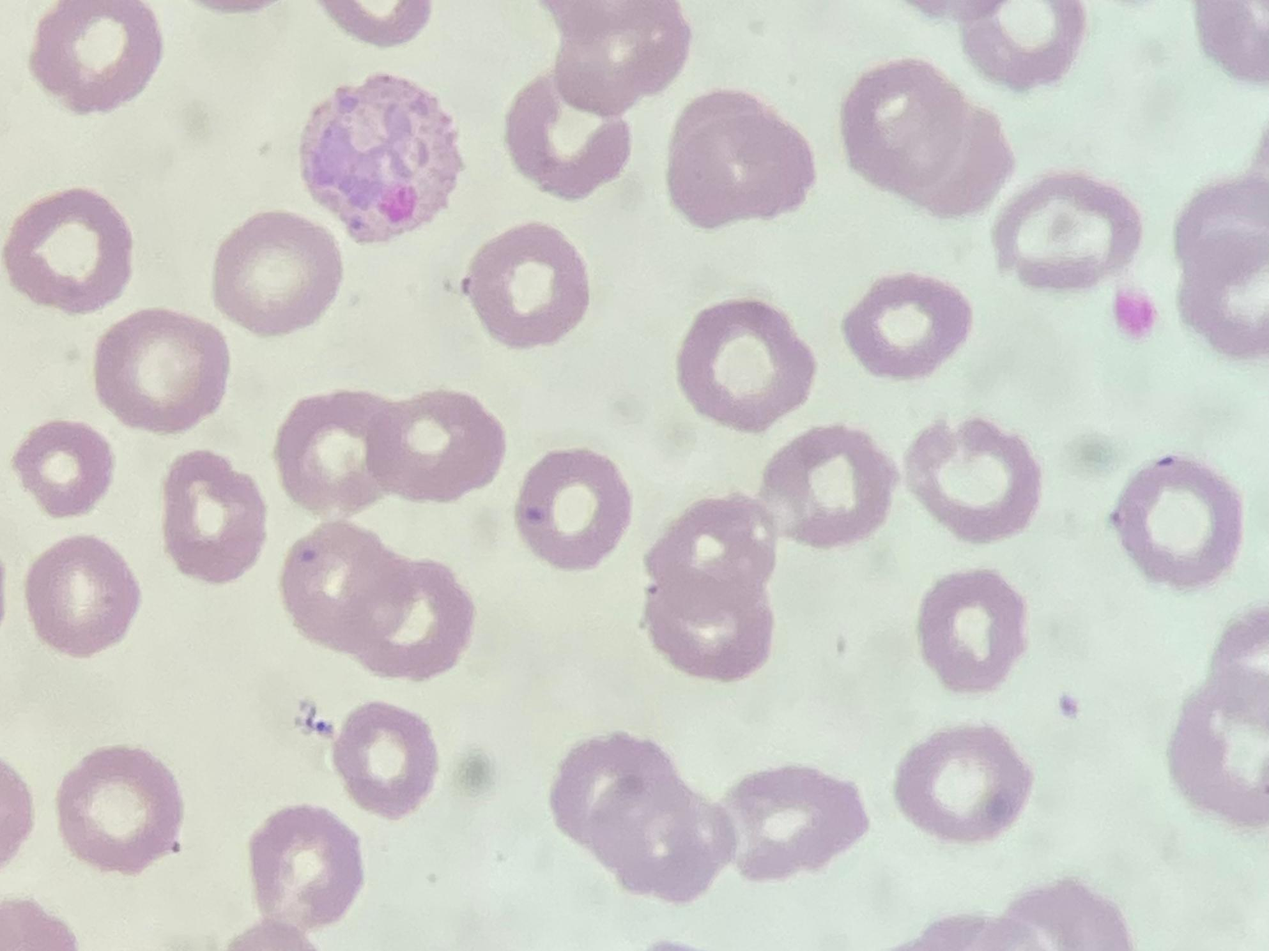Infected: (301, 75, 461, 239)
Uninfected: (285, 522, 474, 680), (553, 736, 734, 899), (842, 57, 1014, 214), (640, 500, 778, 680), (665, 86, 821, 221), (675, 300, 817, 430), (991, 172, 1141, 291), (905, 413, 1044, 540), (1109, 456, 1244, 586), (3, 186, 135, 316), (93, 305, 228, 429), (56, 744, 183, 874), (893, 724, 1032, 842), (723, 766, 868, 879), (758, 425, 893, 544), (1176, 179, 1266, 357), (507, 73, 634, 199), (212, 209, 341, 331), (1166, 672, 1265, 826), (22, 533, 140, 657), (377, 389, 507, 501), (546, 4, 684, 109), (915, 568, 1033, 690), (273, 393, 391, 515), (842, 271, 974, 379), (31, 1, 160, 111), (475, 224, 591, 346), (248, 808, 363, 931), (161, 450, 268, 582), (514, 450, 632, 567), (328, 703, 441, 821), (962, 0, 1086, 87), (15, 418, 114, 515)
